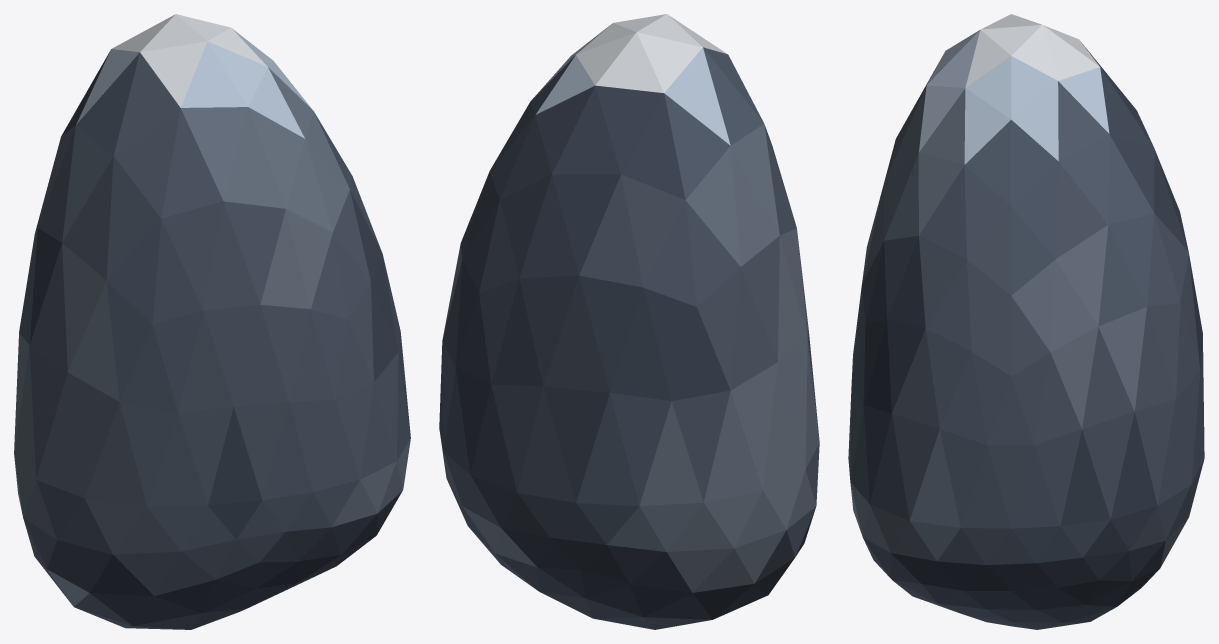
Rendered from Rock_Tall.glb.
3 views of the same model, side by side, from view 1: azimuth 30°, elevation 25°; view 2: azimuth 150°, elevation 25°; view 3: azimuth 270°, elevation 25° (orthographic).
Parts seen in each view (by area): view 1: Rock_Tall; view 2: Rock_Tall; view 3: Rock_Tall.
Boxes of the visible parts, box(x1,y1,x2,y2) form: Rock_Tall: box(14, 14, 410, 629); Rock_Tall: box(439, 14, 819, 629); Rock_Tall: box(848, 14, 1204, 629).
Size of the model in its own units: 2.38 by 3.98 by 2.17.
